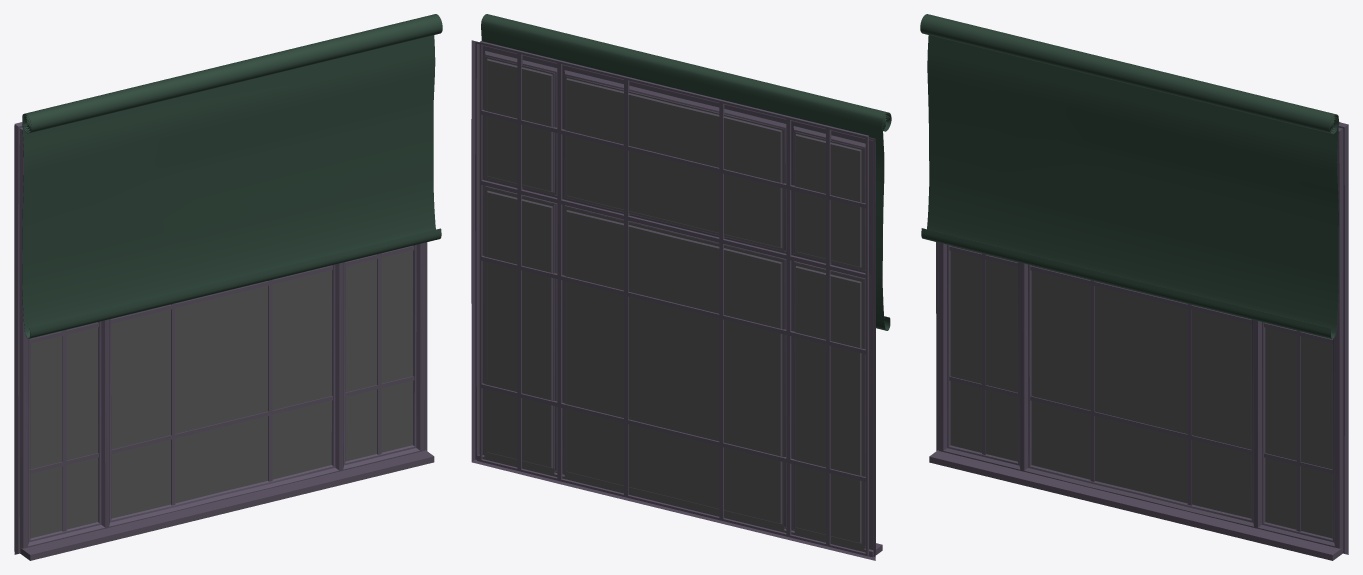
The model's file is Glass003.FBX.
The picture shows the model from 3 angles, left to right: view 1: azimuth 30°, elevation 25°; view 2: azimuth 150°, elevation 25°; view 3: azimuth 330°, elevation 25°; orthographic projection. The views are drawn at different scales.
Parts seen in each view (by area): view 1: Glass003; view 2: Glass003; view 3: Glass003.
Part boxes in pixels (box(x1,y1,x2,y2)): Glass003: box(14, 14, 442, 560); Glass003: box(471, 14, 891, 560); Glass003: box(920, 14, 1348, 560).
Bounding box in the file's own units: 8.74 × 9.08 × 0.634.
Materials: 3 (3 with a texture image).
